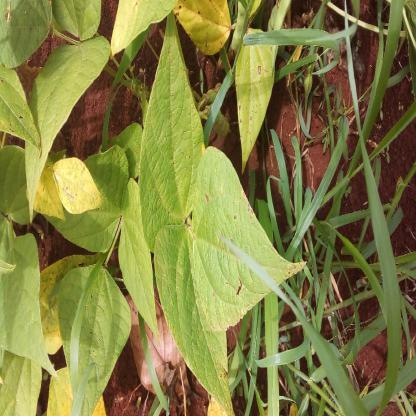Beans_Angular_LeafSpot: (188, 154, 312, 324), (232, 36, 274, 172), (170, 2, 230, 58), (50, 156, 105, 216)
